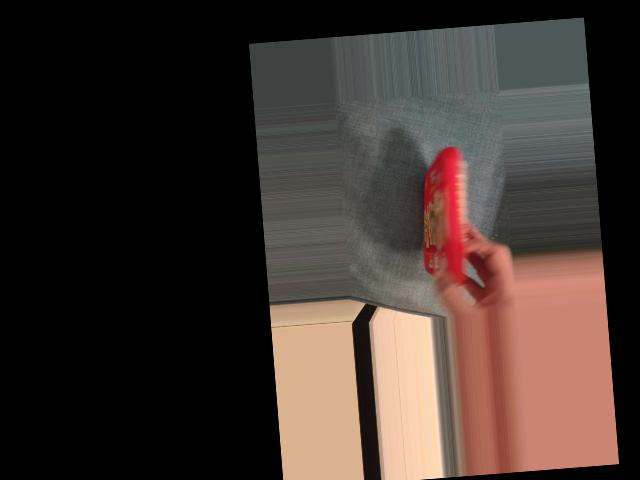cheese: (420, 150, 473, 286)
